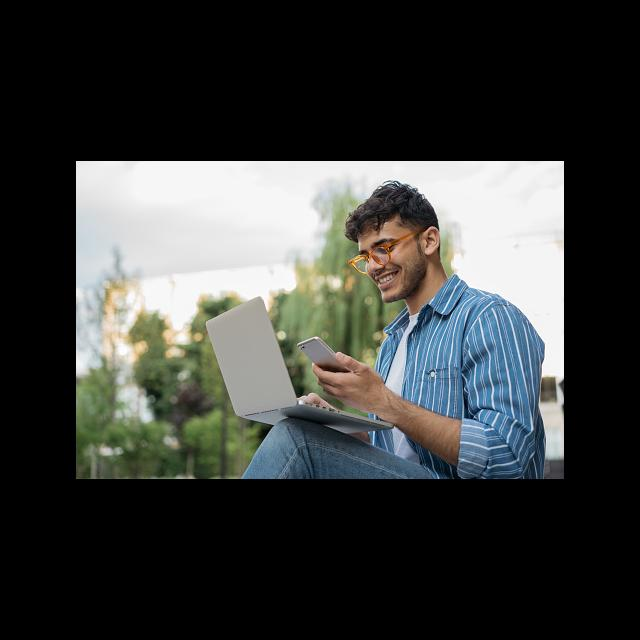male: (320, 168, 469, 296)
